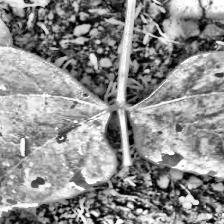ALS: (0, 47, 112, 210), (135, 50, 224, 190)
